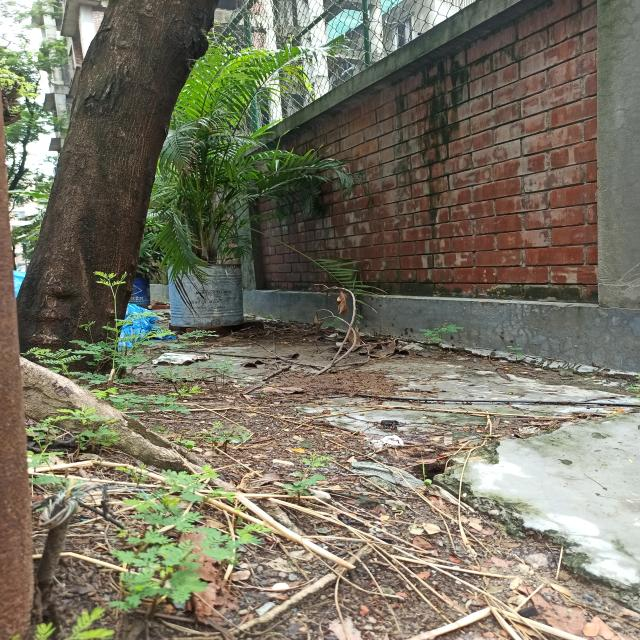artificial_container: (167, 262, 245, 331), (128, 278, 150, 308)
